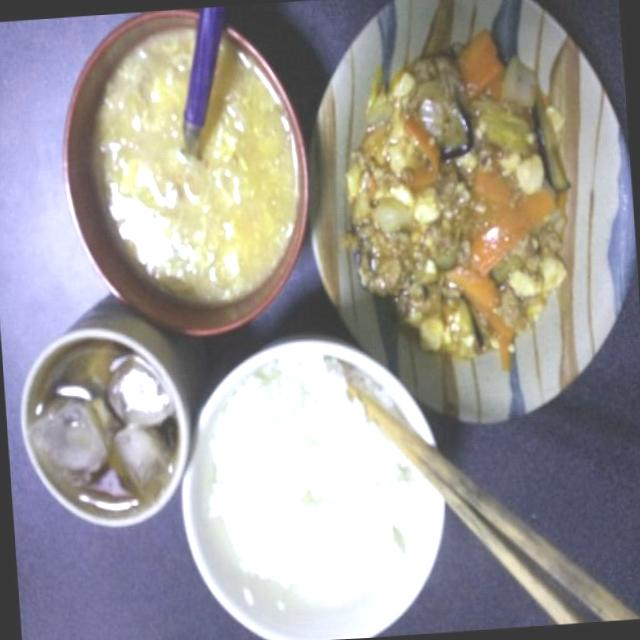Rice: (202, 356, 423, 622)
